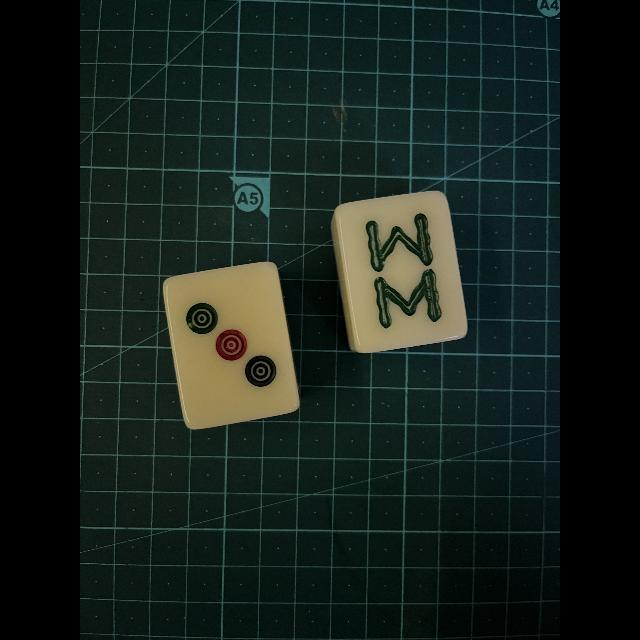b8: (346, 199, 458, 345)
d3: (172, 267, 292, 421)
